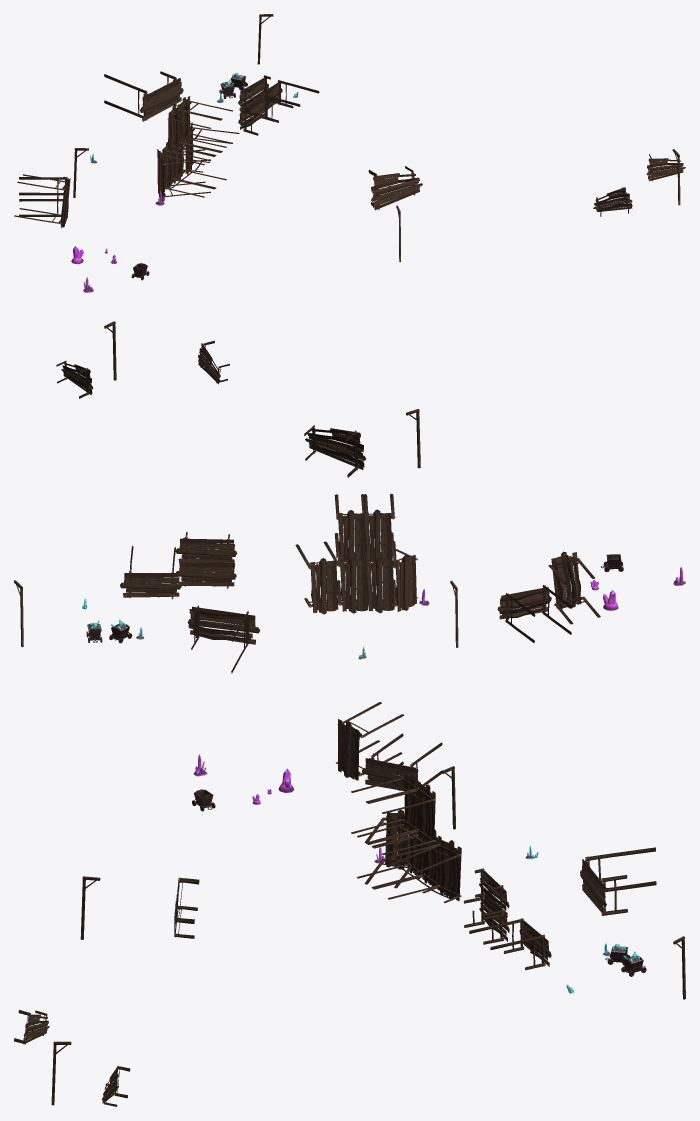
File: area_16_shuijing.FBX
The picture shows the model from 3 angles, top to bottom: view 1: azimuth 30°, elevation 25°; view 2: azimuth 150°, elevation 25°; view 3: azimuth 270°, elevation 25°; orthographic projection. The views are drawn at different scales.
Parts seen in each view (by area): view 1: area_16_shuijing; view 2: area_16_shuijing; view 3: area_16_shuijing.
Part boxes in pixels (x1,y1,x2,y2): area_16_shuijing: [14, 14, 685, 292]; area_16_shuijing: [14, 321, 685, 673]; area_16_shuijing: [14, 702, 685, 1106].
Size of the model in its own units: 9854 by 1409 by 8035.
